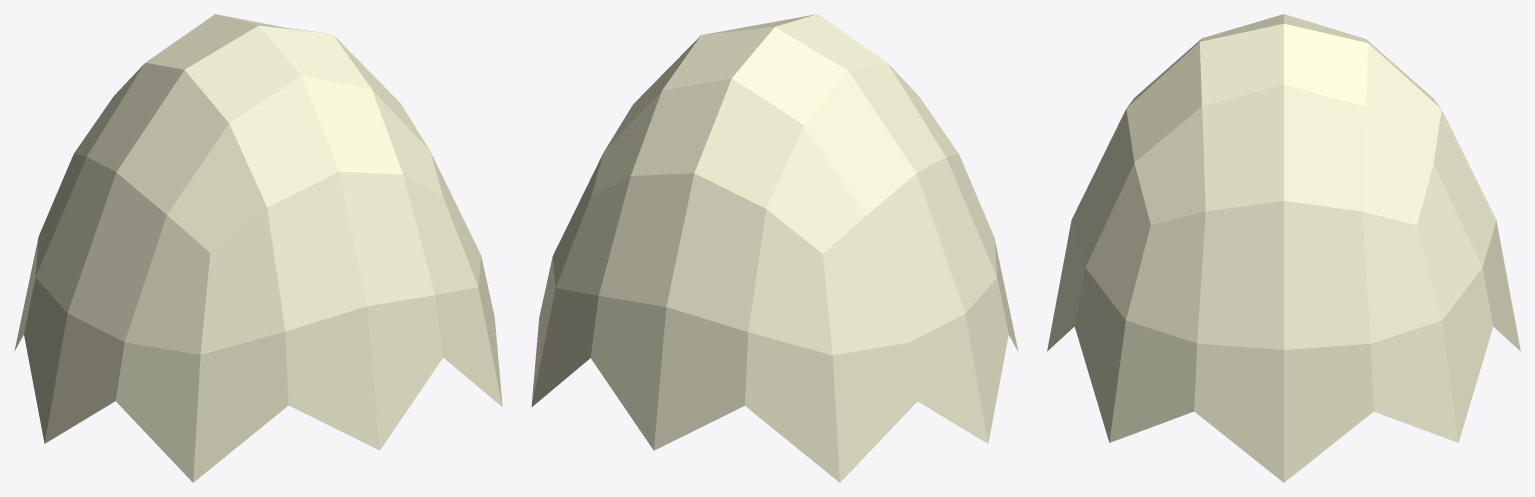
File: eggshell_top.glb
3 renders of one model, left to right at view 1: azimuth 30°, elevation 25°; view 2: azimuth 150°, elevation 25°; view 3: azimuth 270°, elevation 25°, orthographic. The views are drawn at different scales.
Visible parts, largest first — view 1: eggshell_top; view 2: eggshell_top; view 3: eggshell_top.
Boxes of the visible parts, x1,y1,x2,y2 form: eggshell_top: [14, 14, 502, 482]; eggshell_top: [531, 14, 1018, 482]; eggshell_top: [1047, 14, 1520, 482].
Bounding box in the file's own units: 0.6796 × 0.5558 × 0.668.
Materials: 1 (1 with a texture image).
